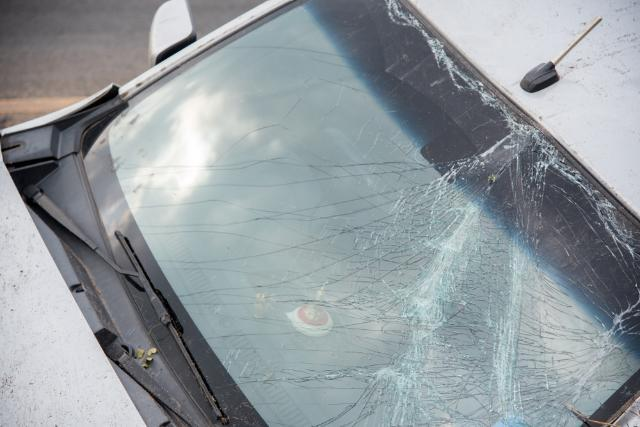glass shatter: (80, 0, 640, 427)
